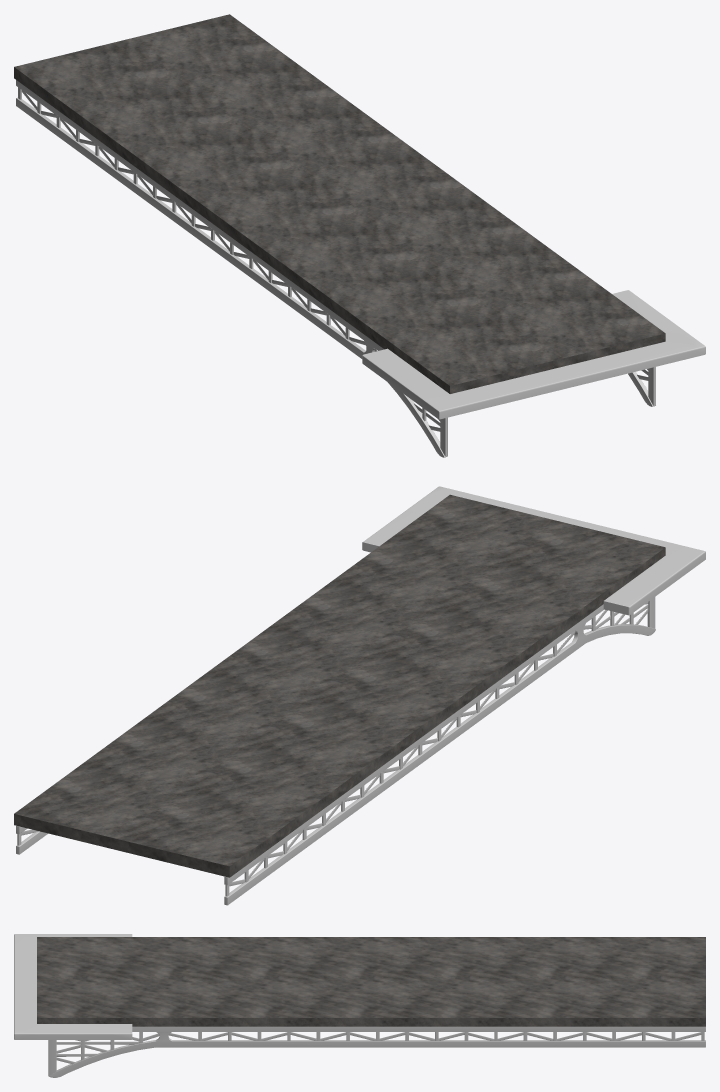
Rendered from SM_Bridge_01.fbx.
The picture shows the model from 3 angles, top to bottom: view 1: azimuth 30°, elevation 25°; view 2: azimuth 150°, elevation 25°; view 3: azimuth 270°, elevation 25°; orthographic projection. The views are drawn at different scales.
Parts seen in each view (by area): view 1: bridge10, bridge9; view 2: bridge10, bridge9; view 3: bridge10, bridge9.
Boxes of the visible parts, bbox=[...] form: bridge10: bbox=[14, 14, 665, 457]; bridge9: bbox=[362, 290, 705, 419]; bridge10: bbox=[14, 494, 665, 905]; bridge9: bbox=[362, 486, 705, 615]; bridge10: bbox=[37, 937, 705, 1077]; bridge9: bbox=[14, 934, 132, 1039].
Bounding box in the file's own units: 2480 × 703 × 7240.
